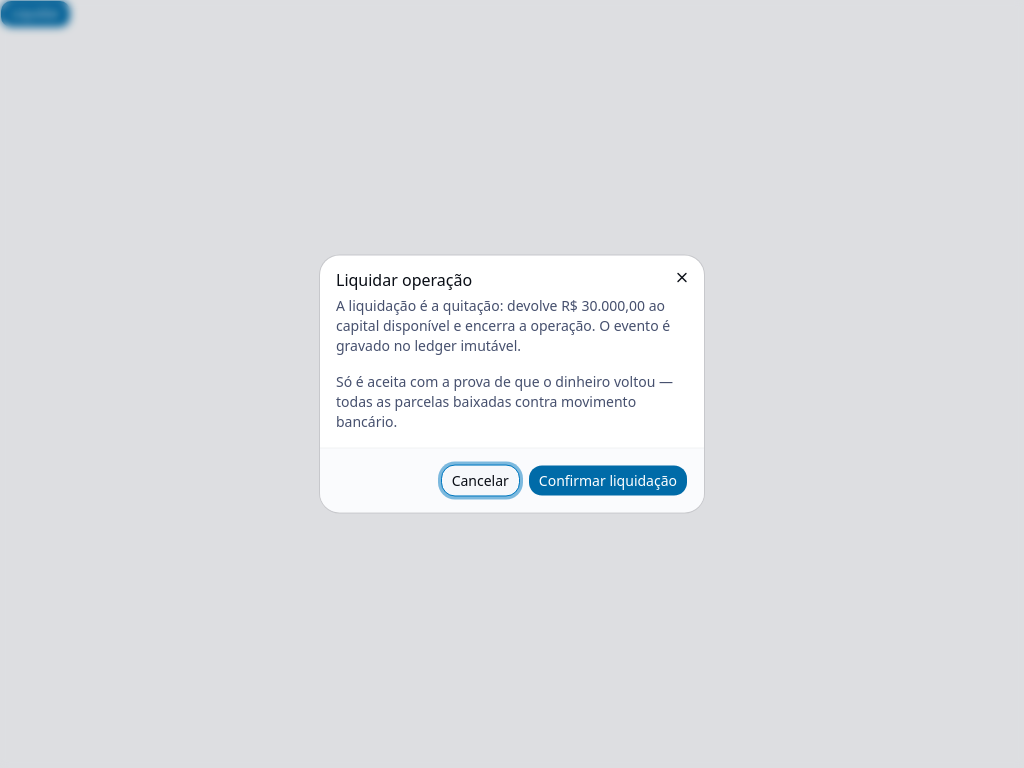
it: LiquidarOperacaoDialog › anuncia erros que não são OC022 sem oferecer o write-off
Step 1. Click the button "Confirmar liquidação" → (608, 480), box [528,464,688,496]
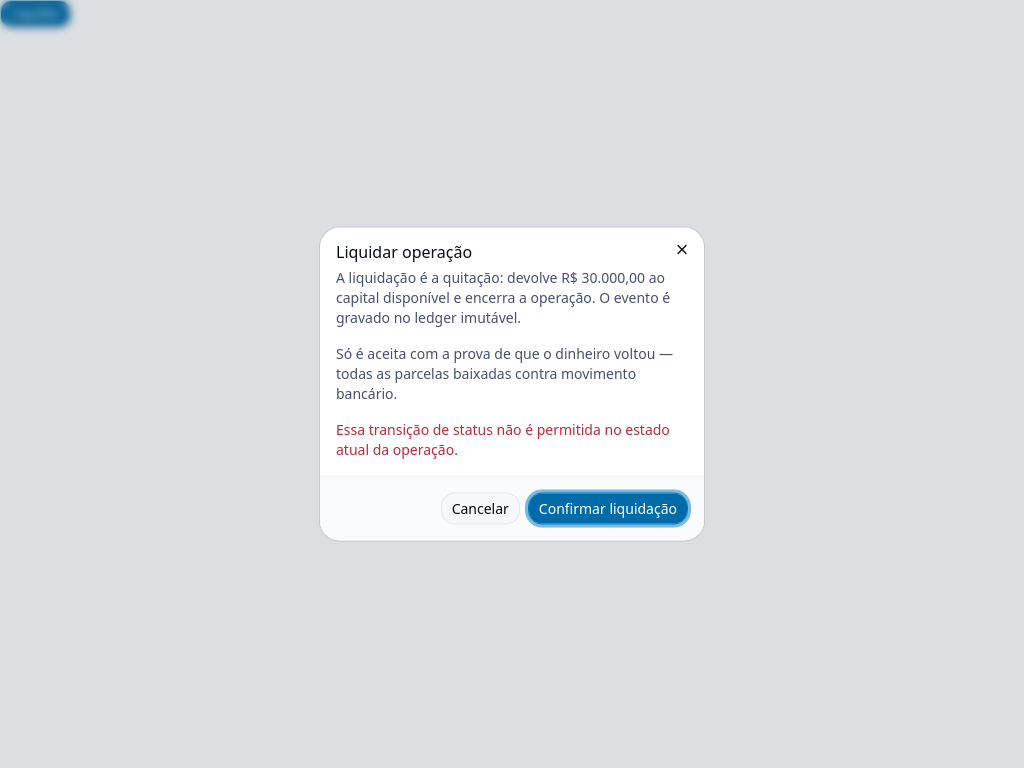
Check: the message reads "Essa transição de status não é permitida no estado atual da operação.", box [336,420,670,458]
